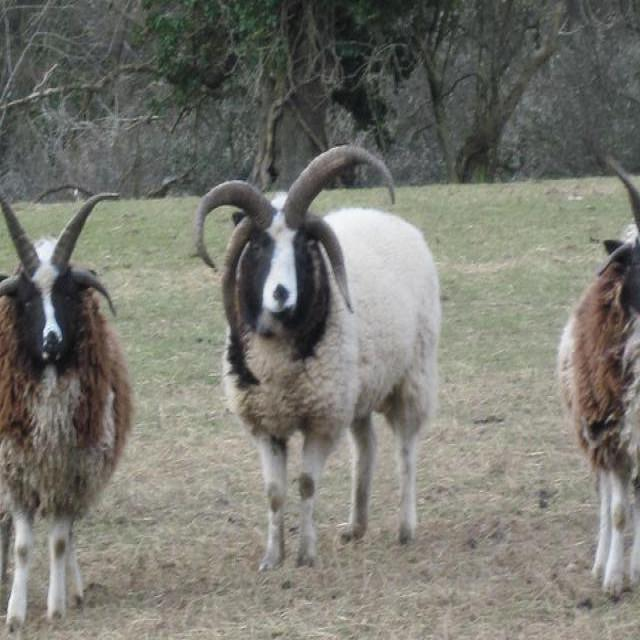Sheep: (193, 142, 441, 574), (0, 192, 134, 633), (554, 150, 639, 602)
